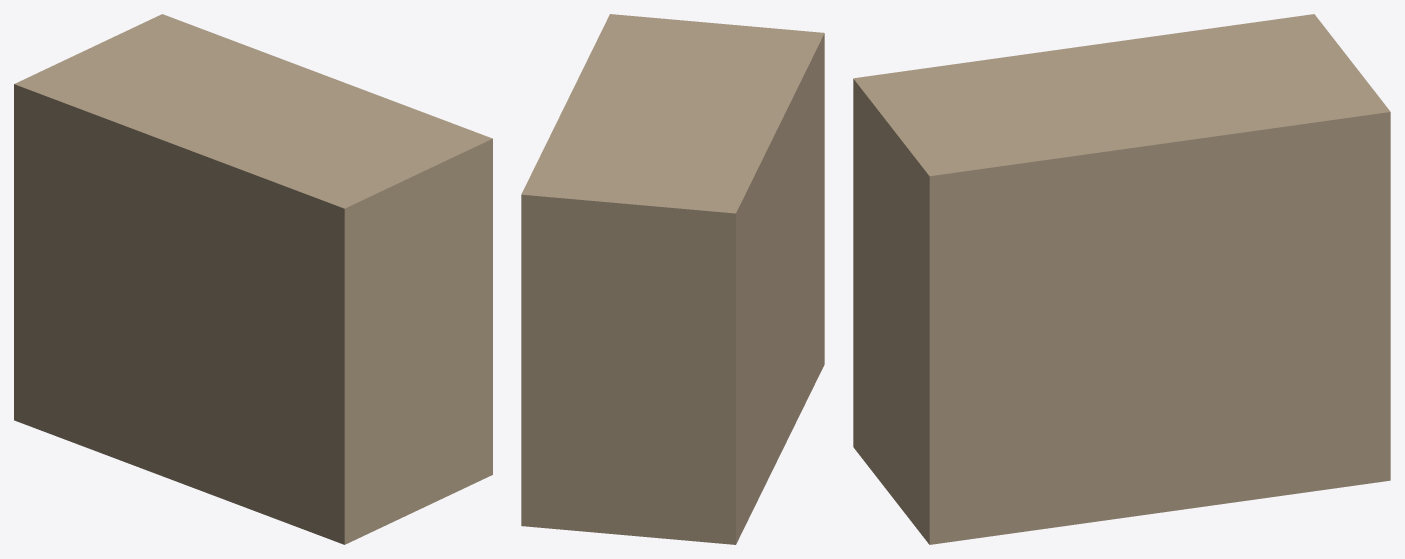
The model's file is bld_164605933.dae.
The picture shows the model from 3 angles, left to right: view 1: azimuth 30°, elevation 25°; view 2: azimuth 150°, elevation 25°; view 3: azimuth 270°, elevation 25°; orthographic projection. The views are drawn at different scales.
Visible parts, largest first — view 1: bld_164605933; view 2: bld_164605933; view 3: bld_164605933.
Boxes of the visible parts, left/top/right/bottom form: bld_164605933: left=14, top=14, right=492, bottom=544; bld_164605933: left=521, top=14, right=824, bottom=544; bld_164605933: left=853, top=14, right=1390, bottom=544.
Bounding box in the file's own units: 7.55 × 10.57 × 8.
